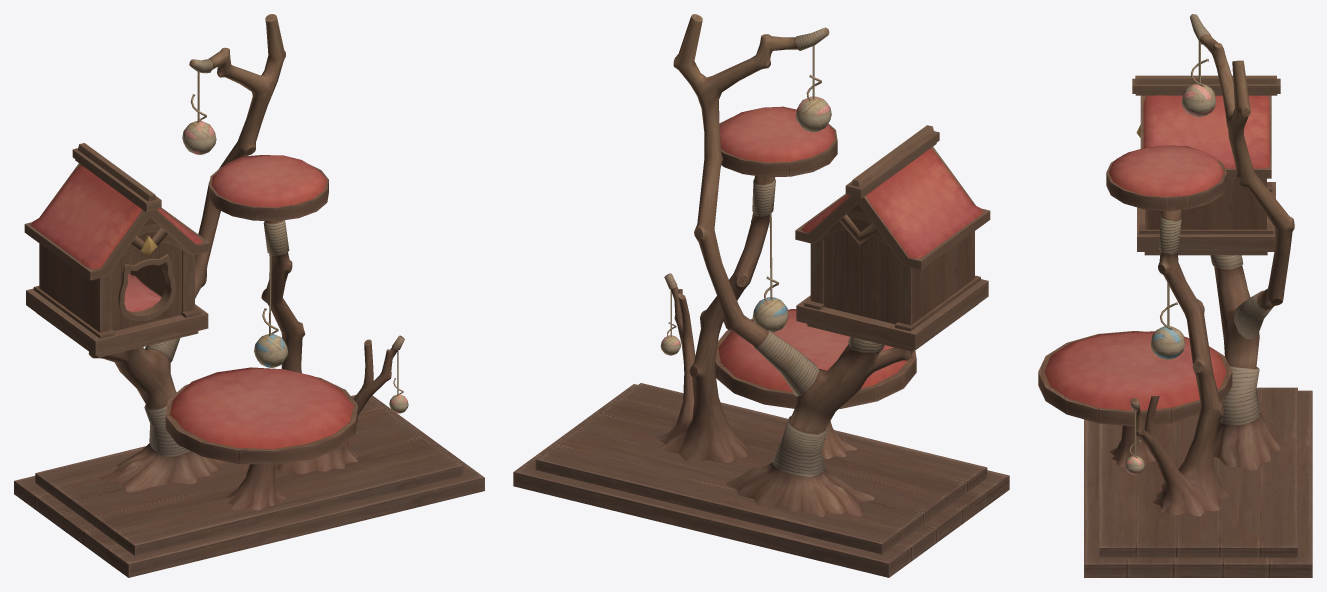
File: Homeworld_Interior_Md_Decoration_Prop_CatClimb_01_Vo.fbx
3 renders of one model, left to right at view 1: azimuth 30°, elevation 25°; view 2: azimuth 150°, elevation 25°; view 3: azimuth 270°, elevation 25°, orthographic. The views are drawn at different scales.
Visible parts, largest first — view 1: Indoor_Md_Prop_Shelf_01_Vo; view 2: Indoor_Md_Prop_Shelf_01_Vo; view 3: Indoor_Md_Prop_Shelf_01_Vo.
Part boxes in pixels (box(x1,y1,x2,y2)): Indoor_Md_Prop_Shelf_01_Vo: box(14, 14, 484, 577); Indoor_Md_Prop_Shelf_01_Vo: box(513, 14, 1009, 577); Indoor_Md_Prop_Shelf_01_Vo: box(1038, 14, 1312, 577).
Bounding box in the file's own units: 2.62 × 3.09 × 1.7.
Materials: 1 (1 with a texture image).
